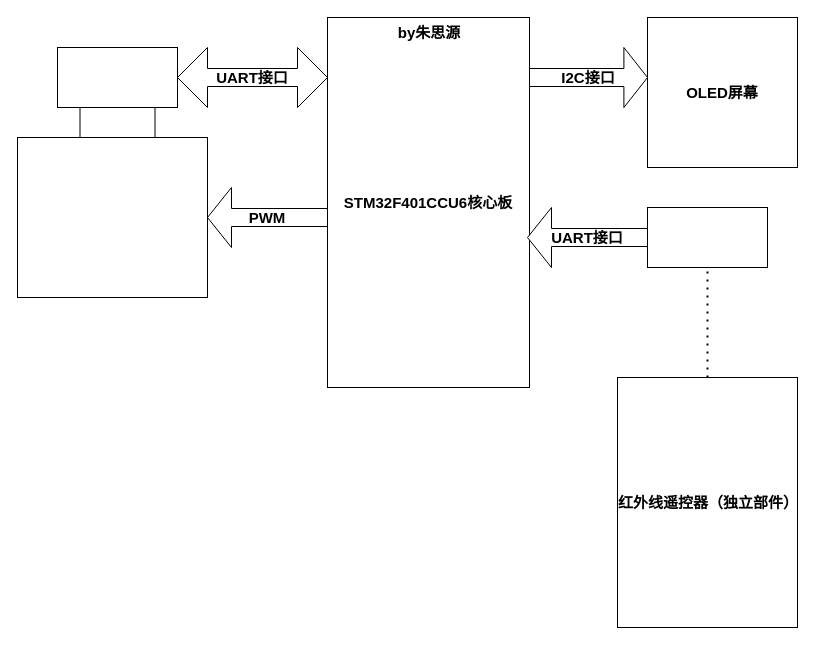
Some shapes in this 815 by 645 pixel diagram are drawn without their labels. Each missing label, with the centre of its shape:
激光测距模块: (117,77)
红外线接收头: (707,237)
舵机: (112,217)
舵机的旋转臂: (117,122)
